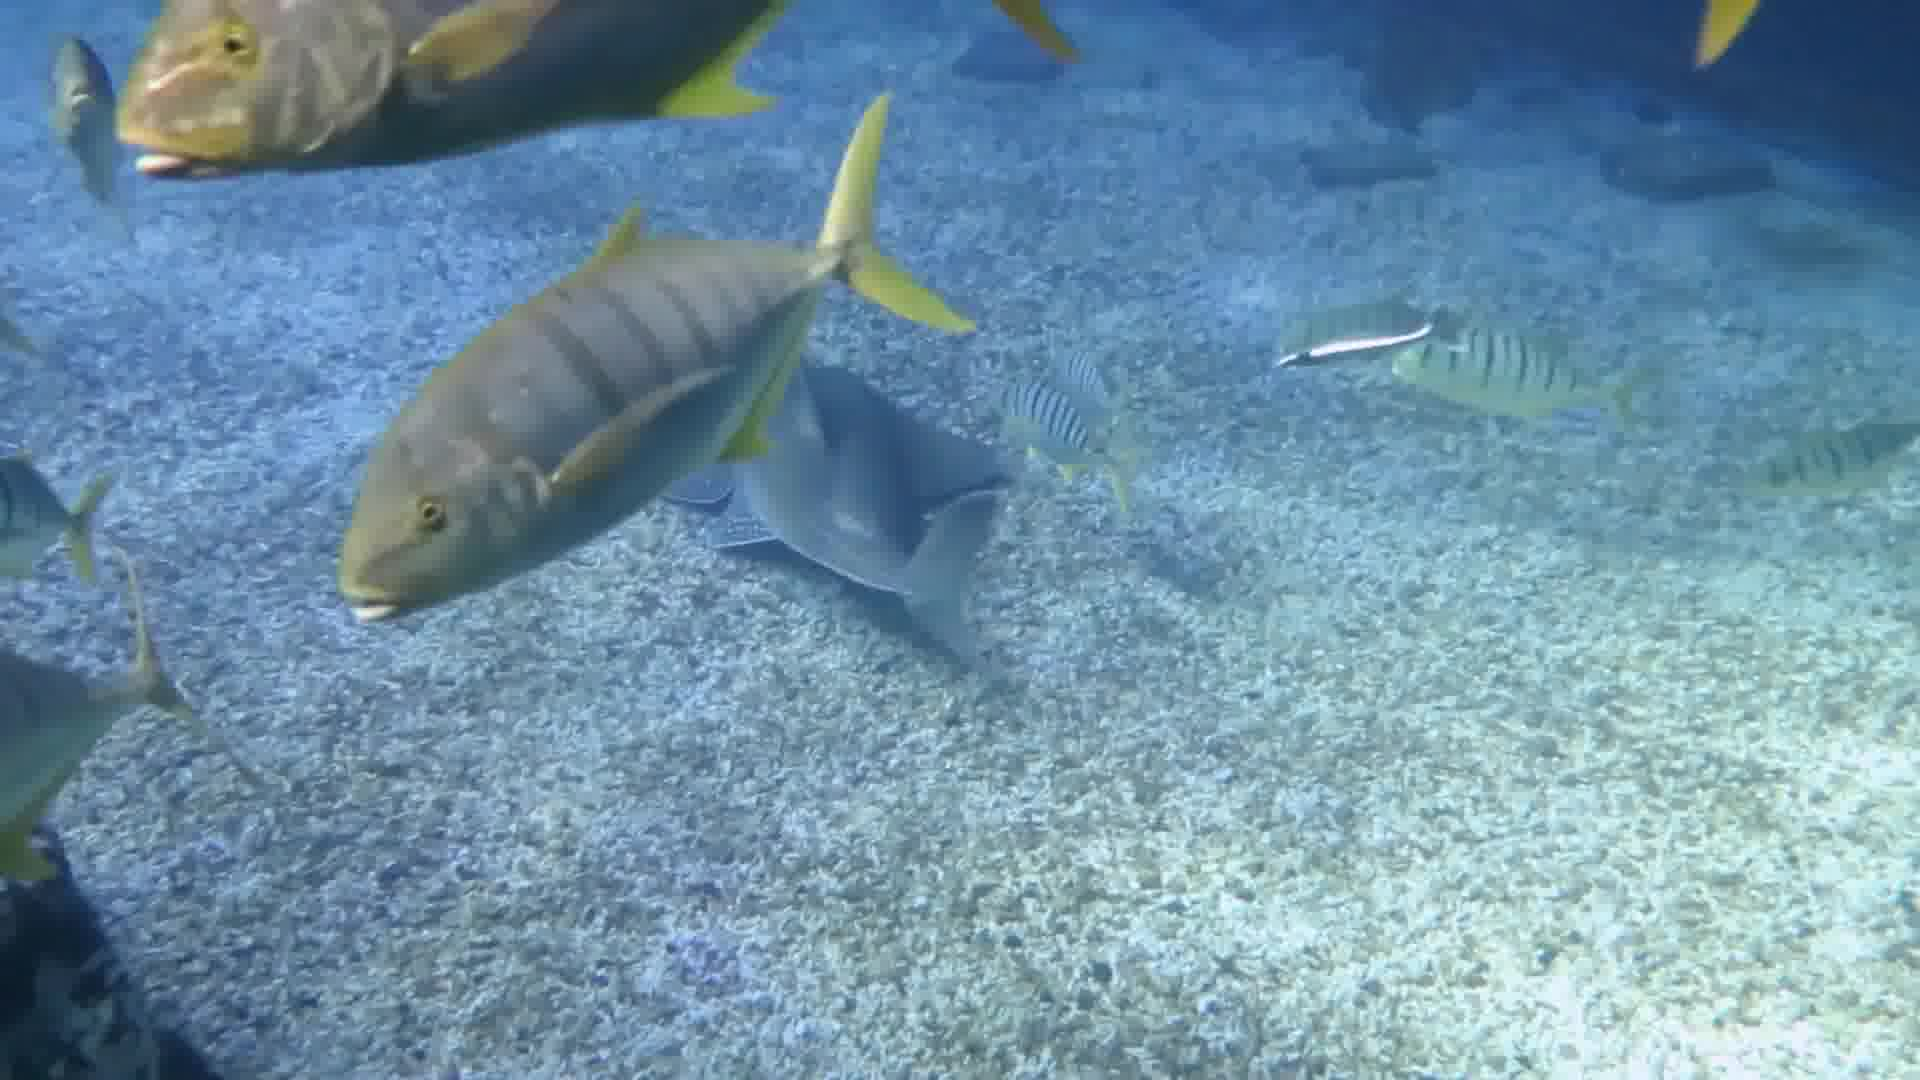Rhychobatus djiddensis: (754, 349, 1021, 692)
